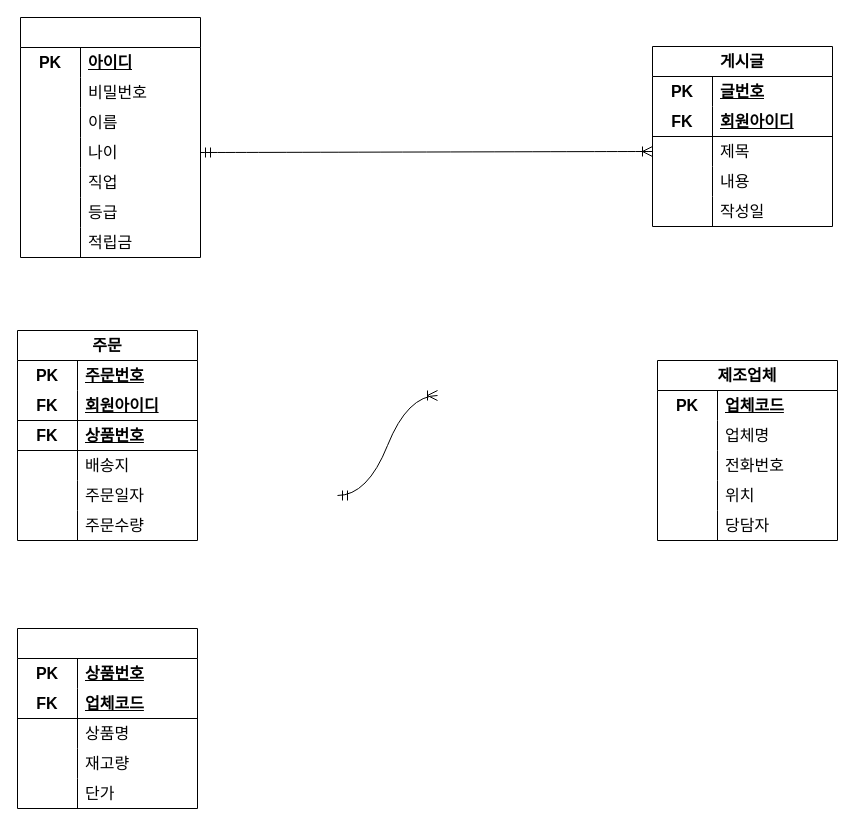
This 855x826 diagram has some shape labels left out. The shapes that lost their labels are listed below. From the top down, each one's box as (x1, y1, x2, y2) in pixels, then its label:
(20, 16, 200, 258): 회원
(16, 628, 198, 808): 상품
